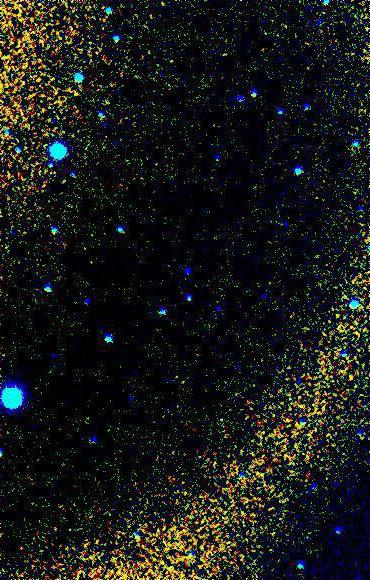star: (337, 363, 367, 393)
